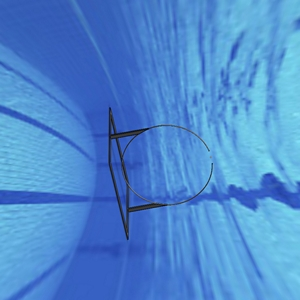circle: (105, 106, 215, 240)
